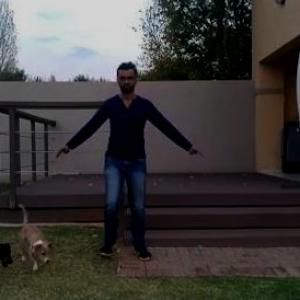land: (59, 73, 214, 248)
